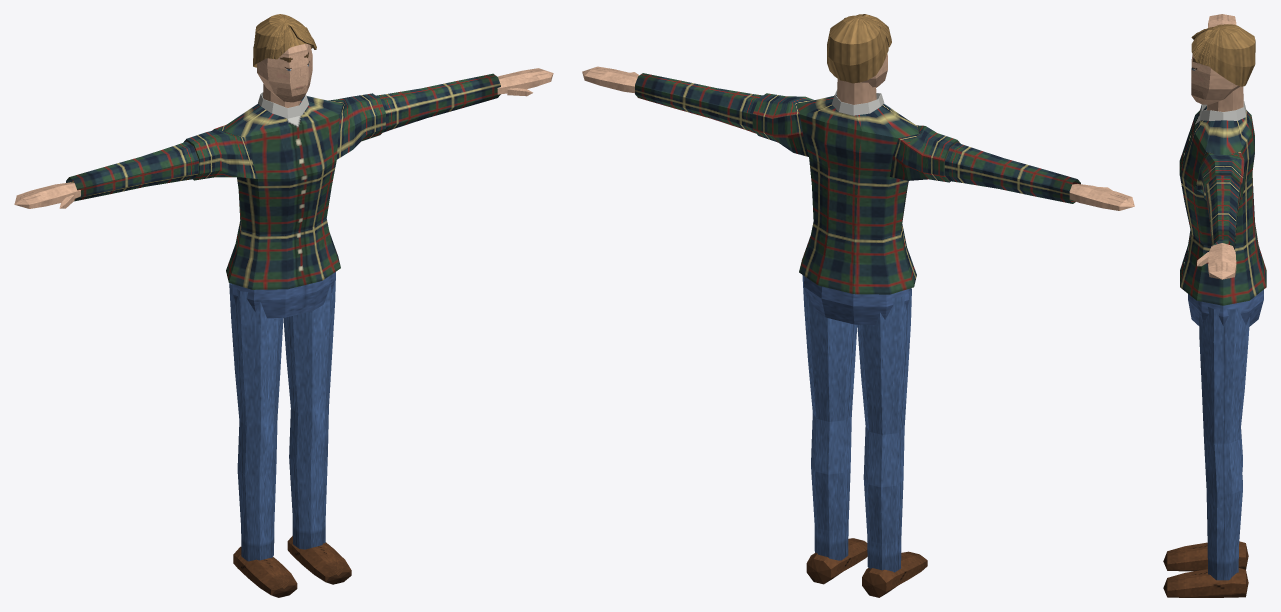
File: Jacob_fuer_Mixamo.fbx
The picture shows the model from 3 angles, left to right: view 1: azimuth 30°, elevation 25°; view 2: azimuth 150°, elevation 25°; view 3: azimuth 270°, elevation 25°; orthographic projection. The views are drawn at different scales.
Visible parts, largest first — view 1: Jacob_Mesh; view 2: Jacob_Mesh; view 3: Jacob_Mesh.
Part boxes in pixels (x1,y1,x2,y2): Jacob_Mesh: (14,14,553,597); Jacob_Mesh: (582,14,1134,597); Jacob_Mesh: (1163,14,1266,597).
Size of the model in its own units: 1.84 by 1.79 by 0.3028.
Materials: 1 (1 with a texture image).
